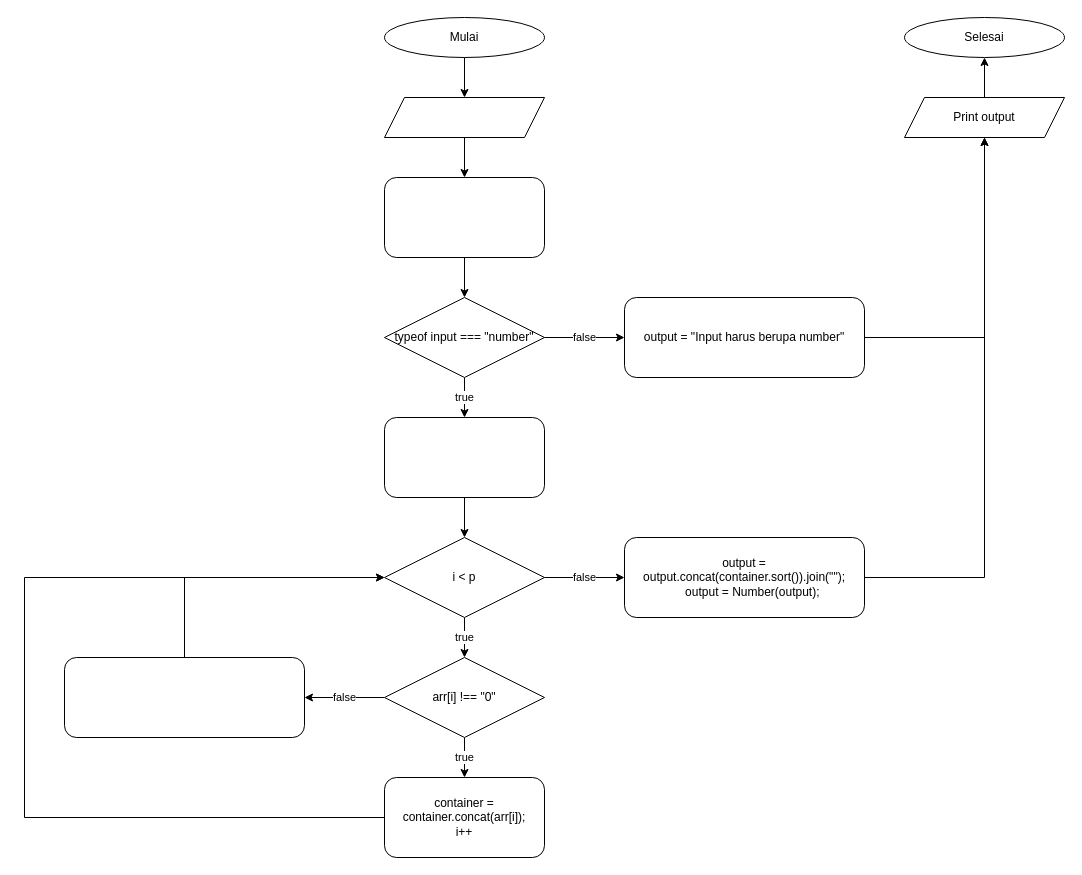
Some shapes in this 1082 by 875 pixel diagram are drawn without their labels. The box of each missing label's shape, as (x1, y1, x2, y2) in pixels:
arr = input.toString().split("") p = arr.length i = 0: (384, 416, 544, 498)
Deklarasi container = [ ] output = [ ] arr = " ": (384, 176, 544, 258)
Input: (384, 96, 544, 138)
output = output.concat(container.sort()); container = []; i++: (64, 656, 304, 738)
